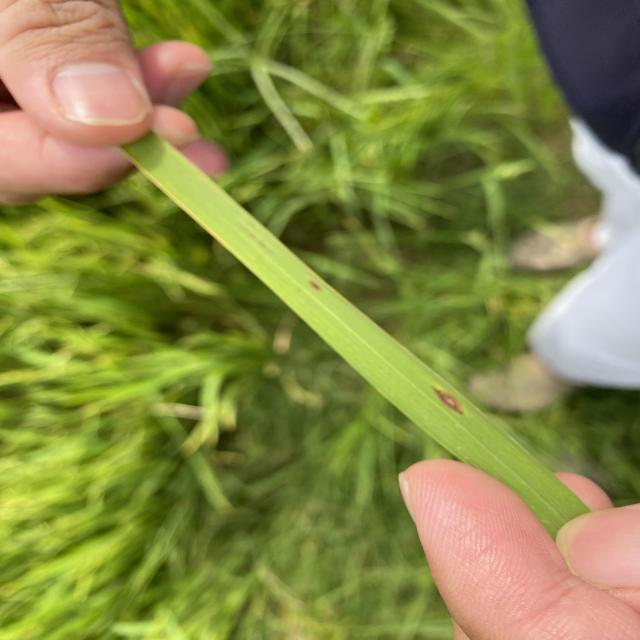Dom nau: (430, 384, 466, 416), (307, 279, 324, 292)
